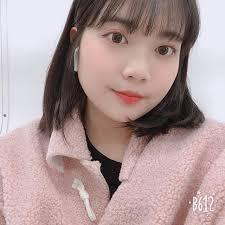earphone: (67, 43, 81, 69)
